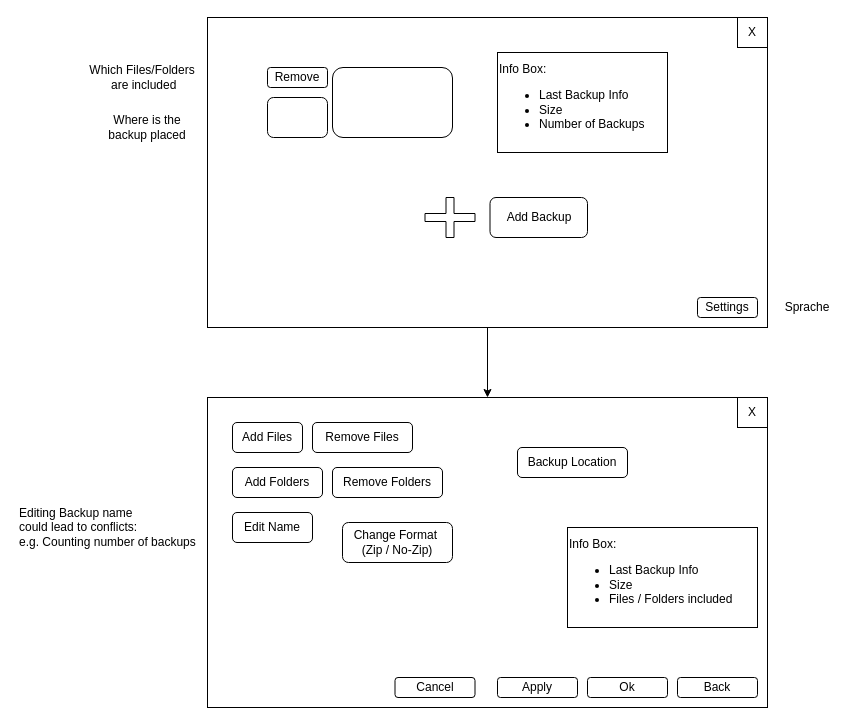
Image size: 854x725. Some labels were removed from this diagram. Each missing label, with the centre of its shape:
"Backup Now" belongs at point 392,102.
"Edit" belongs at point 297,117.
